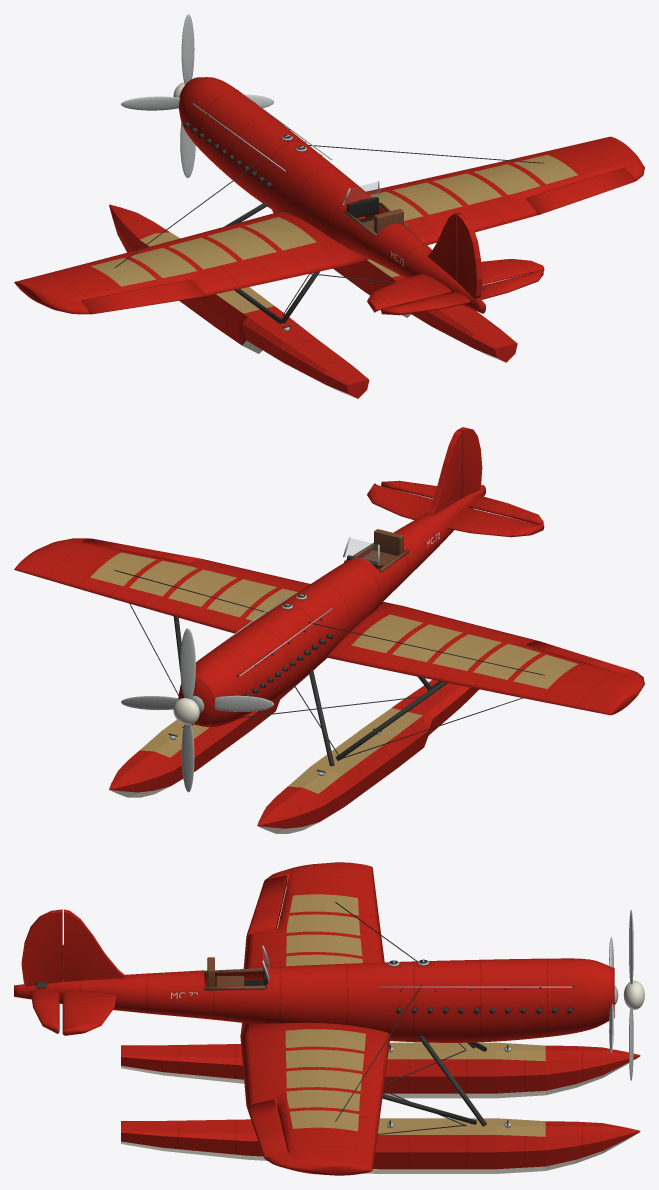
3 renders of one model, top to bottom at view 1: azimuth 30°, elevation 25°; view 2: azimuth 150°, elevation 25°; view 3: azimuth 270°, elevation 25°, orthographic. The views are drawn at different scales.
Parts seen in each view (by area): view 1: AircraftBody, Port stepped racing float, Starboard stepped racing float, Airfoil aileron with hinge clearance, Airfoil aileron with hinge clearance.001, Rounded elevator, Broad rounded rudder, Metal racing propeller blade.001, Metal racing propeller blade.003, Metal racing propeller blade; view 2: AircraftBody, Port stepped racing float, Starboard stepped racing float, Rounded elevator, Broad rounded rudder, Metal racing propeller blade.001, Metal racing propeller blade.003, Airfoil aileron with hinge clearance, Metal racing propeller blade, Airfoil aileron with hinge clearance.001, Metal racing propeller blade.002; view 3: AircraftBody, Starboard stepped racing float, Port stepped racing float, Broad rounded rudder, Airfoil aileron with hinge clearance.001, Airfoil aileron with hinge clearance, Rounded elevator.
Part boxes in pixels (bbox=[...]): AircraftBody: bbox=[14, 77, 644, 331]; Port stepped racing float: bbox=[109, 204, 369, 398]; Starboard stepped racing float: bbox=[272, 210, 517, 362]; Airfoil aileron with hinge clearance: bbox=[81, 279, 203, 314]; Airfoil aileron with hinge clearance.001: bbox=[526, 168, 634, 214]; Rounded elevator: bbox=[381, 269, 543, 315]; Broad rounded rudder: bbox=[457, 214, 482, 299]; Metal racing propeller blade.001: bbox=[181, 14, 194, 84]; Metal racing propeller blade.003: bbox=[121, 96, 179, 110]; Metal racing propeller blade: bbox=[180, 122, 195, 177]; AircraftBody: bbox=[14, 430, 644, 775]; Port stepped racing float: bbox=[257, 679, 479, 833]; Starboard stepped racing float: bbox=[109, 667, 316, 797]; Rounded elevator: bbox=[381, 480, 543, 524]; Broad rounded rudder: bbox=[457, 427, 482, 497]; Metal racing propeller blade.001: bbox=[180, 628, 195, 699]; Metal racing propeller blade.003: bbox=[214, 695, 273, 711]; Airfoil aileron with hinge clearance: bbox=[526, 641, 634, 674]; Metal racing propeller blade: bbox=[181, 724, 194, 792]; Airfoil aileron with hinge clearance.001: bbox=[81, 538, 203, 562]; Metal racing propeller blade.002: bbox=[121, 696, 178, 710]; AircraftBody: bbox=[14, 862, 644, 1175]; Starboard stepped racing float: bbox=[121, 1118, 640, 1173]; Port stepped racing float: bbox=[121, 1042, 640, 1098]; Broad rounded rudder: bbox=[21, 909, 62, 986]; Airfoil aileron with hinge clearance.001: bbox=[247, 1099, 287, 1158]; Airfoil aileron with hinge clearance: bbox=[246, 875, 287, 935]; Rounded elevator: bbox=[31, 989, 59, 1033].
Size of the model in its own units: 9.48 by 3.3 by 8.32.
9 materials, 1 textured.
